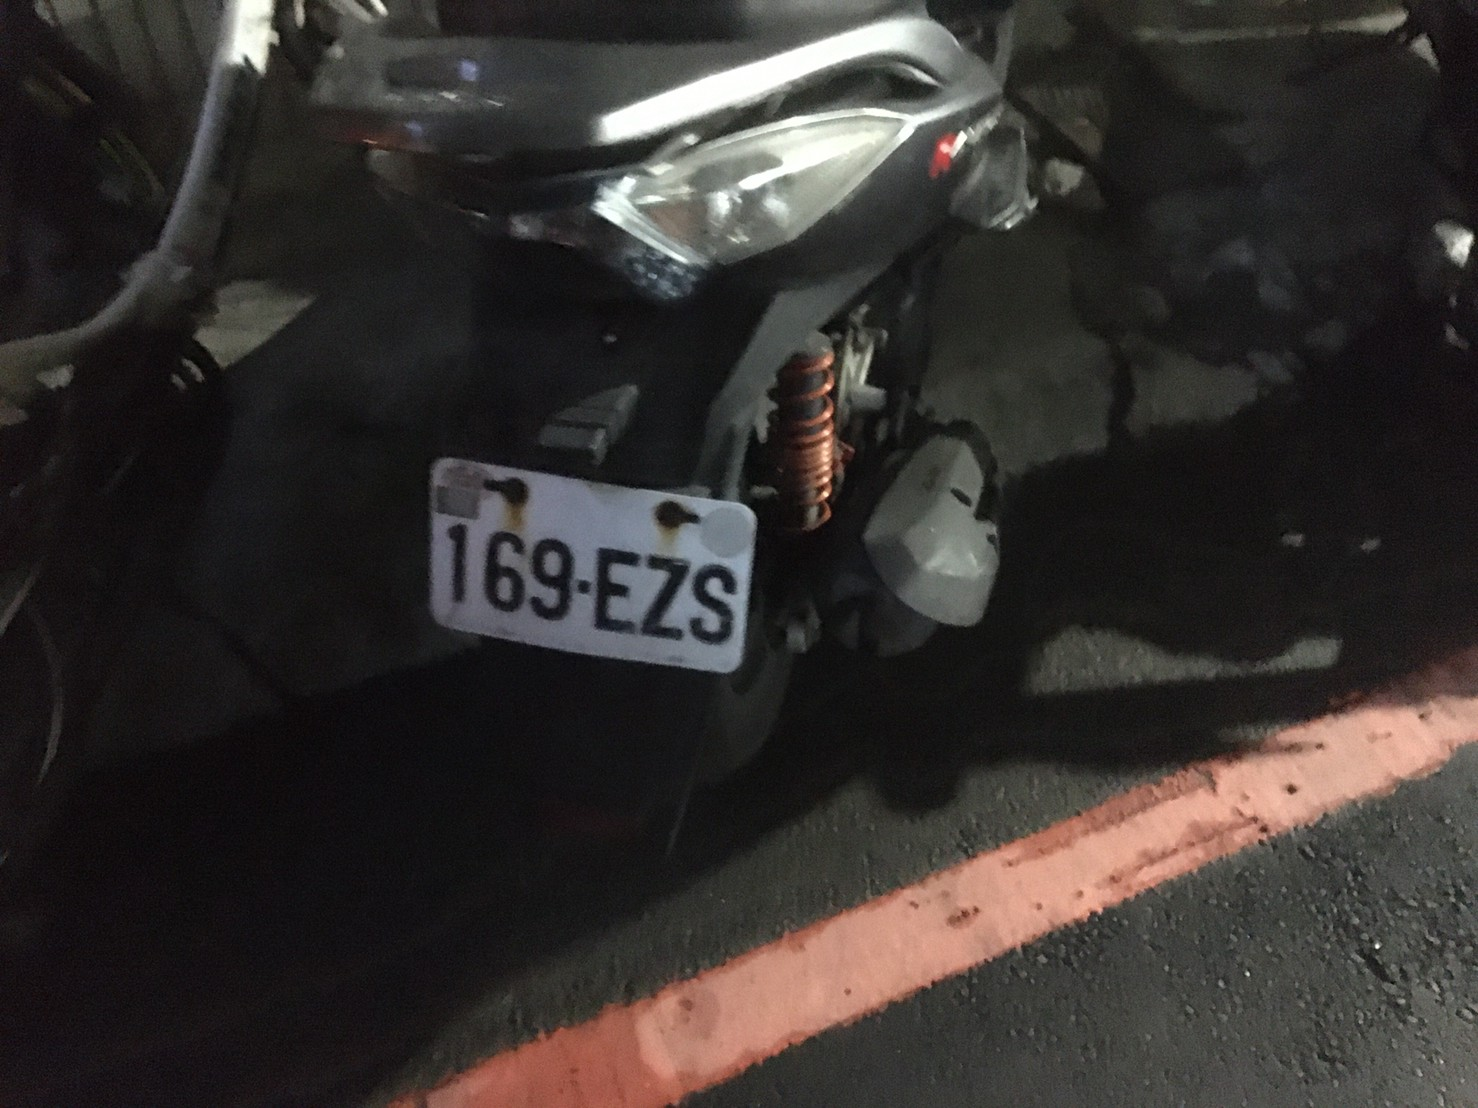LP: (434, 468, 739, 665)
